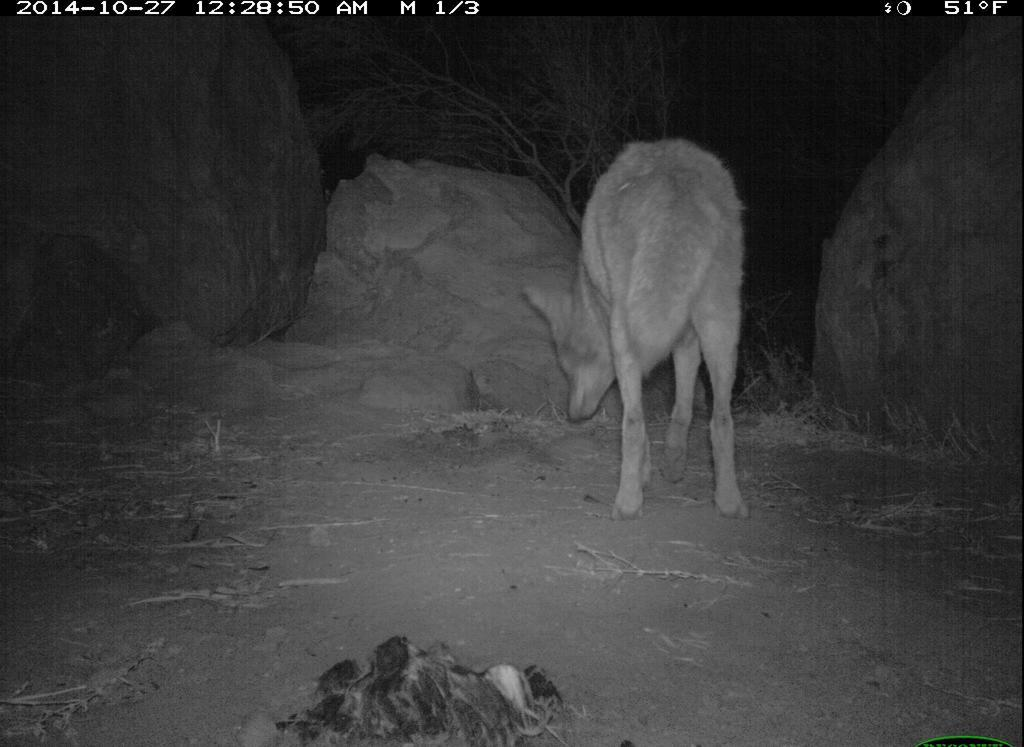coyote: (520, 127, 760, 529)
